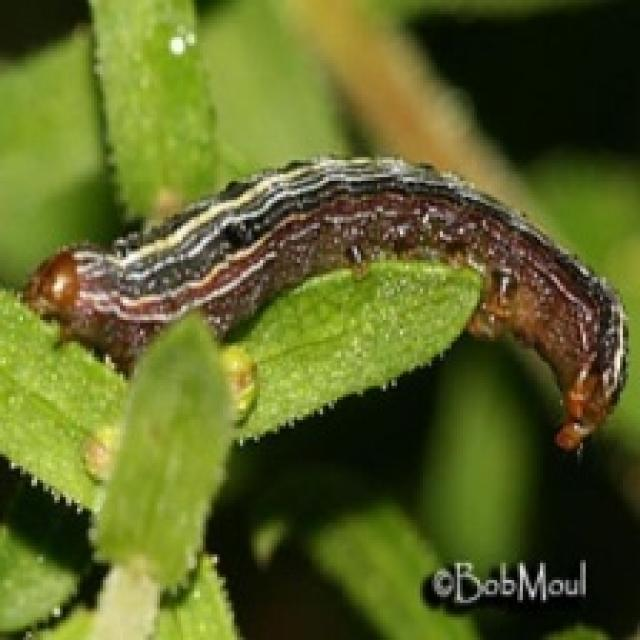armyworm: (13, 141, 636, 464)
